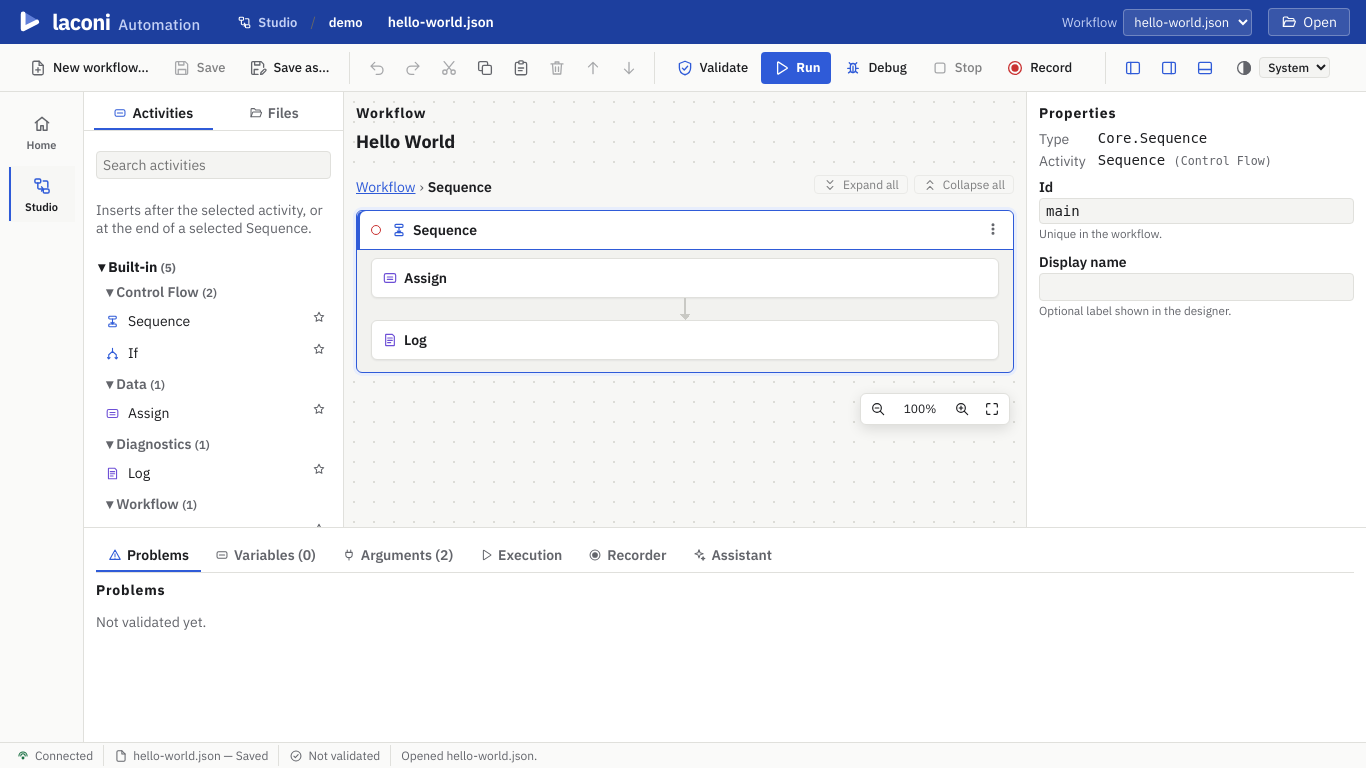
Scenario: Rename › refuses a name the server finds a problem with, saying why, and changes nothing
Click the tab "Arguments (2)" at (397, 556), box top-left (330, 540), bottom-right (465, 572)
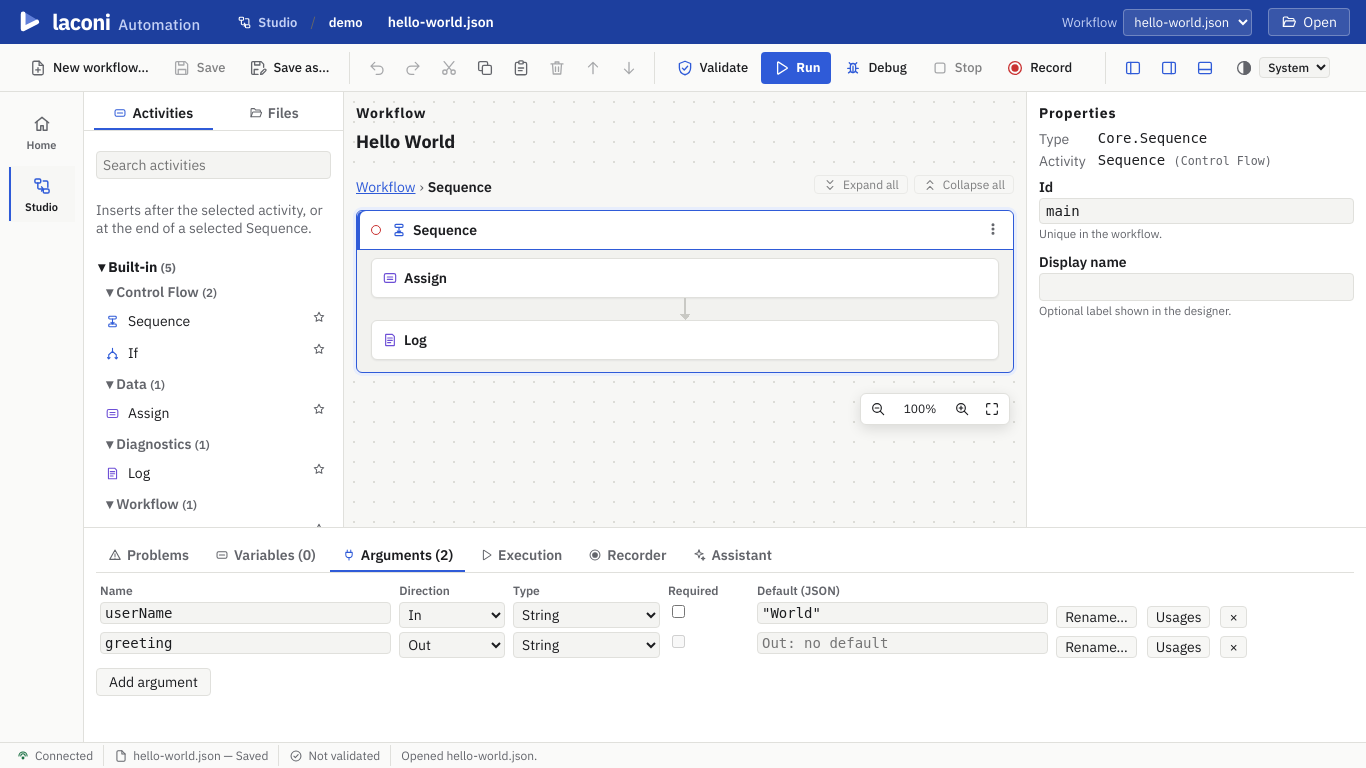
Click the button with aria-label "Rename argument greeting" at (1096, 647), box top-left (1056, 636), bottom-right (1137, 658)
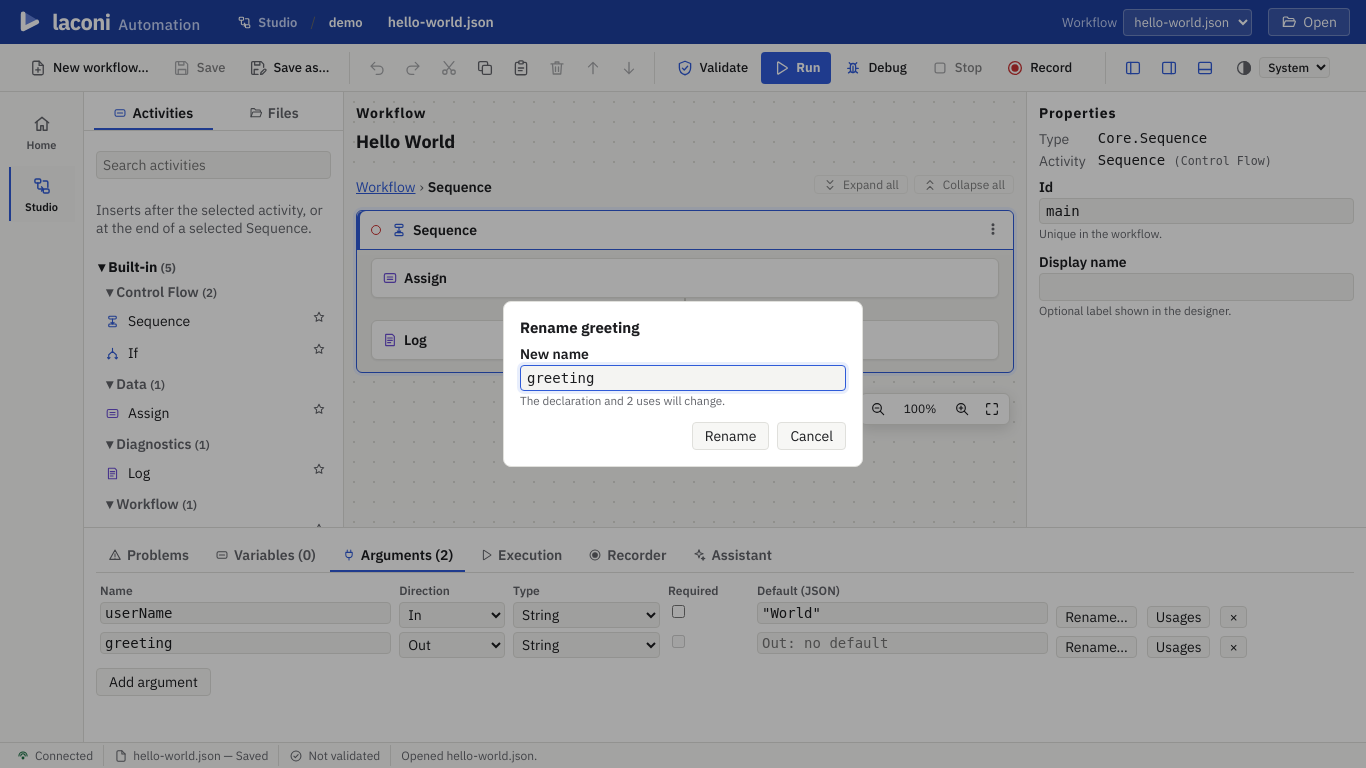
Replace the text in the field labelled "New name" with "userName" at (683, 378), box top-left (520, 365), bottom-right (846, 391)
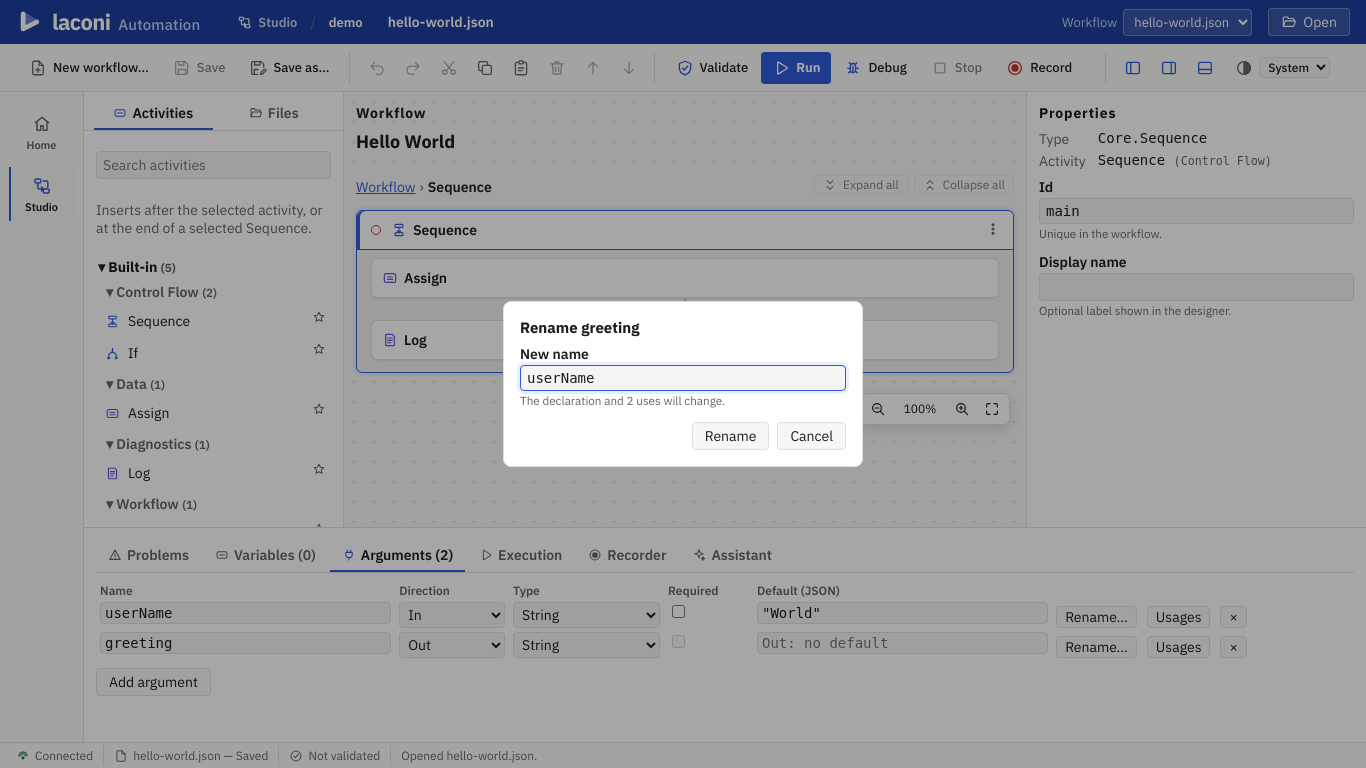
Click the button "Rename" at (730, 436), box top-left (692, 422), bottom-right (769, 450)
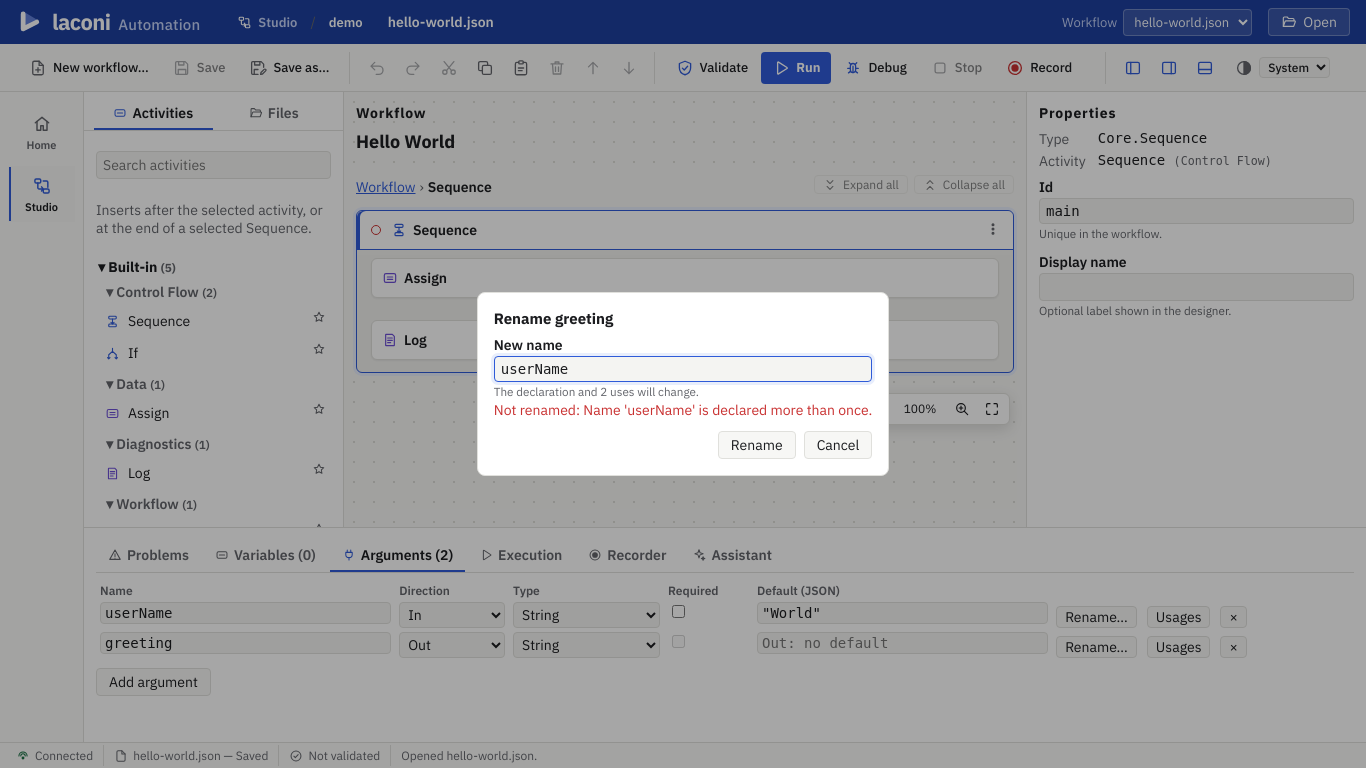
Now the text "Not renamed: Name 'userName' is declared more than once." is shown, box top-left (494, 401), bottom-right (872, 419)
